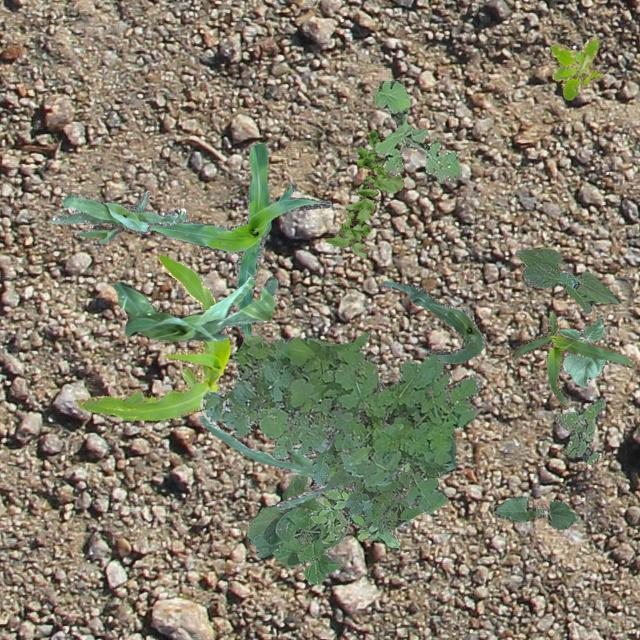crop: (147, 140, 330, 338), (74, 253, 228, 420), (198, 414, 344, 508), (510, 308, 632, 408), (246, 472, 346, 584), (112, 274, 276, 340), (378, 280, 486, 364), (49, 190, 188, 243), (516, 248, 620, 312), (556, 314, 604, 388), (492, 496, 576, 528)
weed: (199, 330, 482, 512), (298, 432, 422, 532), (324, 128, 404, 255), (308, 460, 411, 550), (374, 78, 461, 182), (552, 398, 604, 463), (548, 36, 602, 98), (366, 520, 411, 540)
